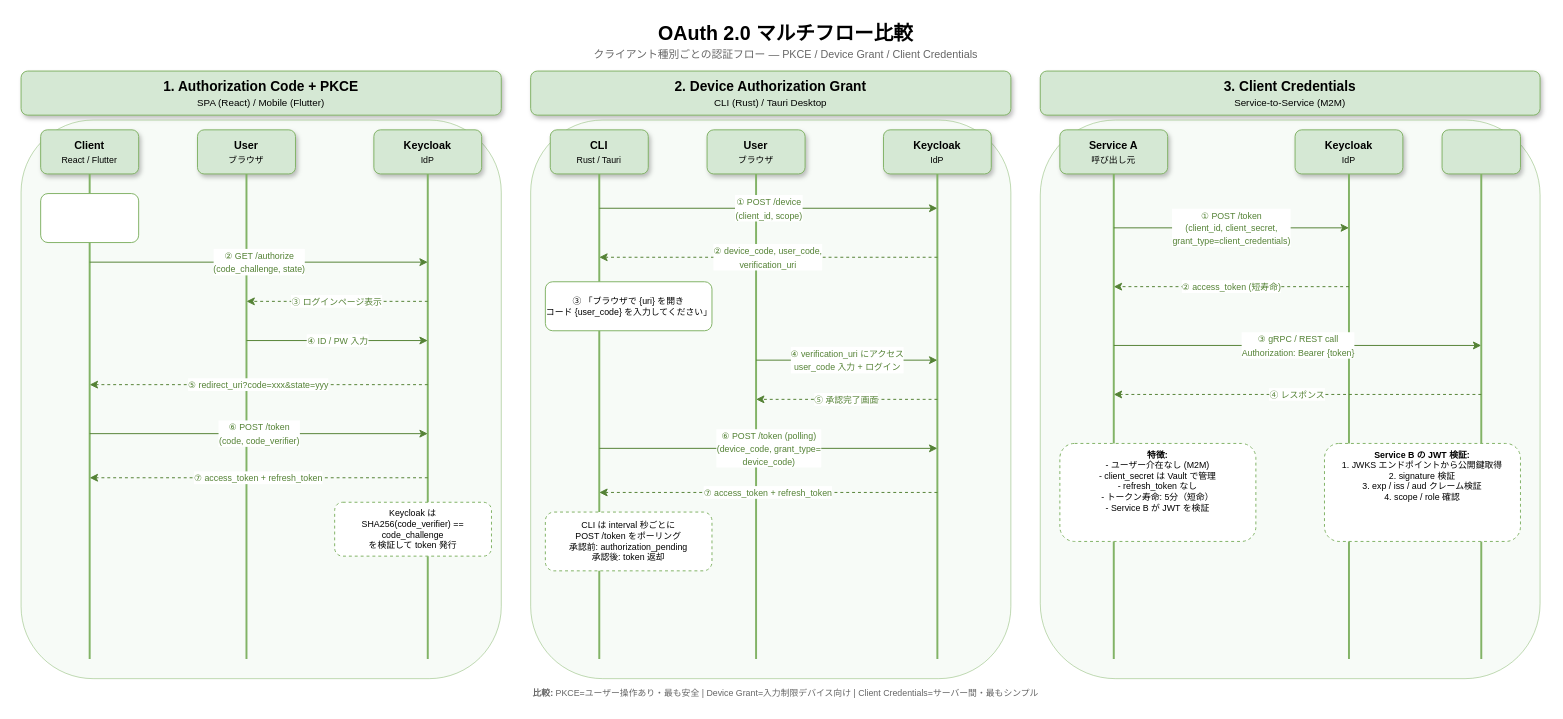
Image size: 1563x719. Some labels were removed from this diagram. Here are the shapes that lost their labels. From the top down, the centre of each, then its label:
At point (1481, 153): "Service B 呼び出し先".
At point (89, 218): "① code_verifier 生成 code_challenge = SHA256(verifier)".
